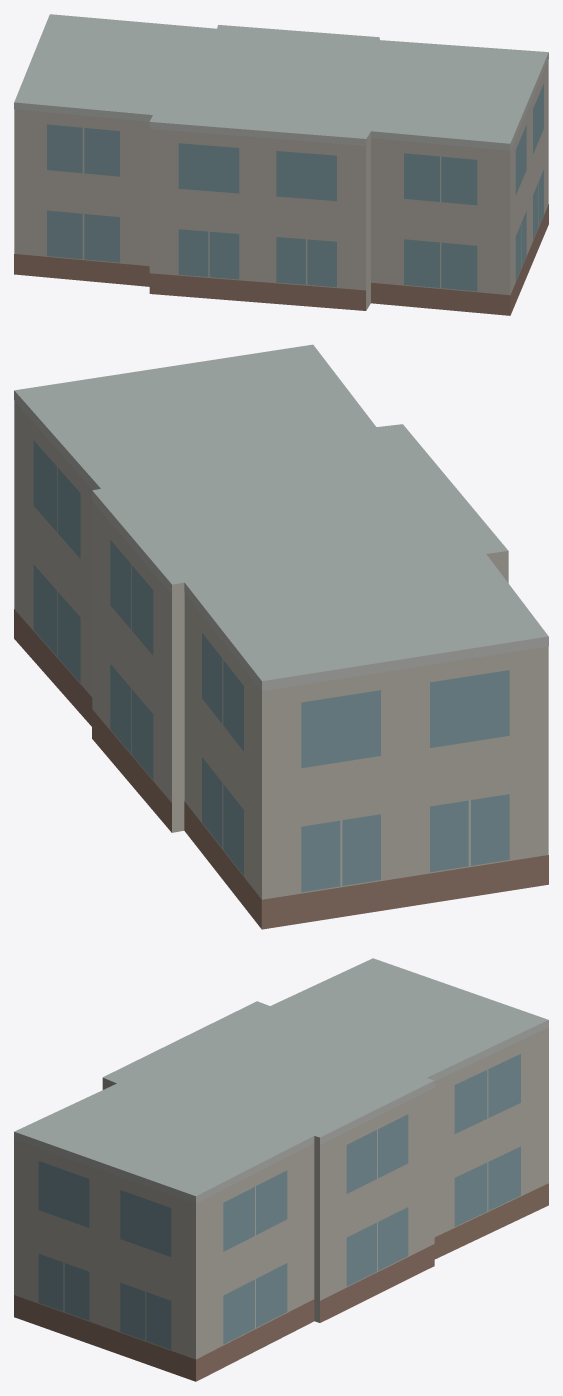
Rendered from survey-upis-33009165.glb.
3 renders of one model, top to bottom at view 1: azimuth 30°, elevation 25°; view 2: azimuth 150°, elevation 25°; view 3: azimuth 270°, elevation 25°, orthographic. The views are drawn at different scales.
Visible parts, largest first — view 1: survey-upis-33009165.tmp; view 2: survey-upis-33009165.tmp; view 3: survey-upis-33009165.tmp.
Boxes of the visible parts, x1,y1,x2,y2 form: survey-upis-33009165.tmp: (14,14,548,315); survey-upis-33009165.tmp: (14,344,548,929); survey-upis-33009165.tmp: (14,958,548,1381).
Size of the model in its own units: 16.8 by 6.1 by 15.95.
